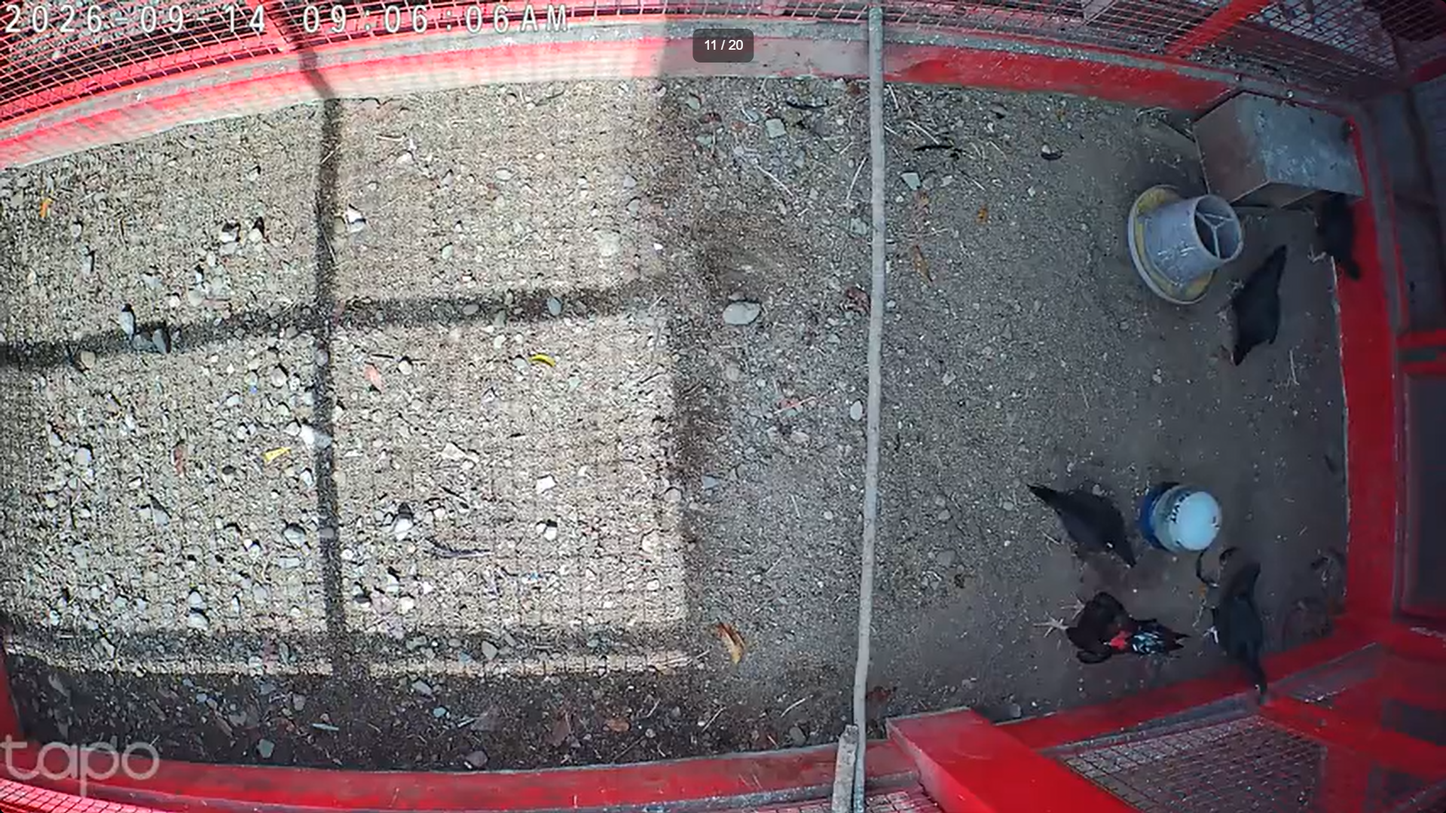Chicken: (1197, 559, 1272, 700), (1214, 243, 1291, 369)
Rooster: (1030, 590, 1193, 665)
